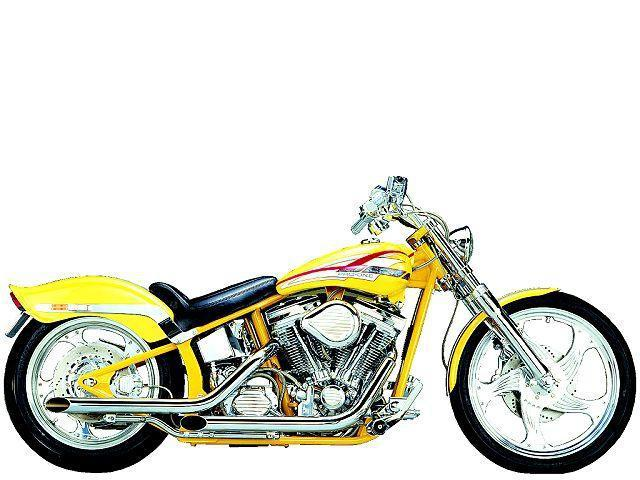motorcycle: (1, 173, 640, 479)
